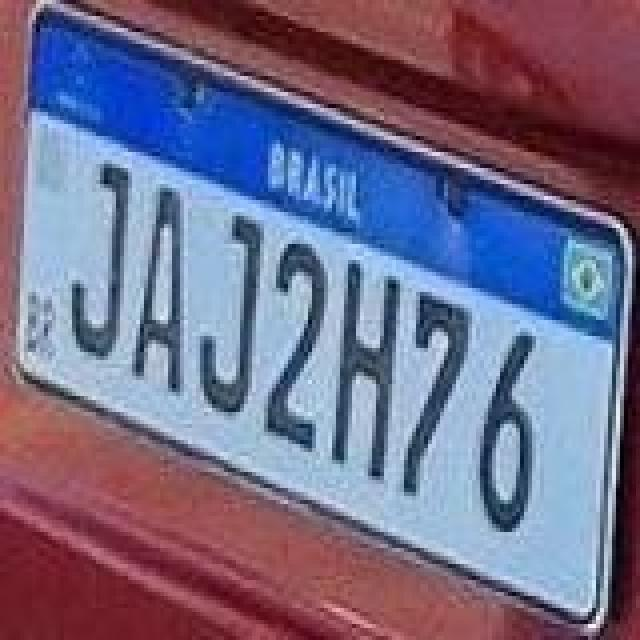2: (262, 240, 330, 456)
6: (472, 330, 536, 534)
7: (402, 286, 478, 498)
A: (132, 182, 188, 394)
H: (330, 258, 406, 486)
J: (198, 208, 266, 416), (66, 160, 134, 360)
